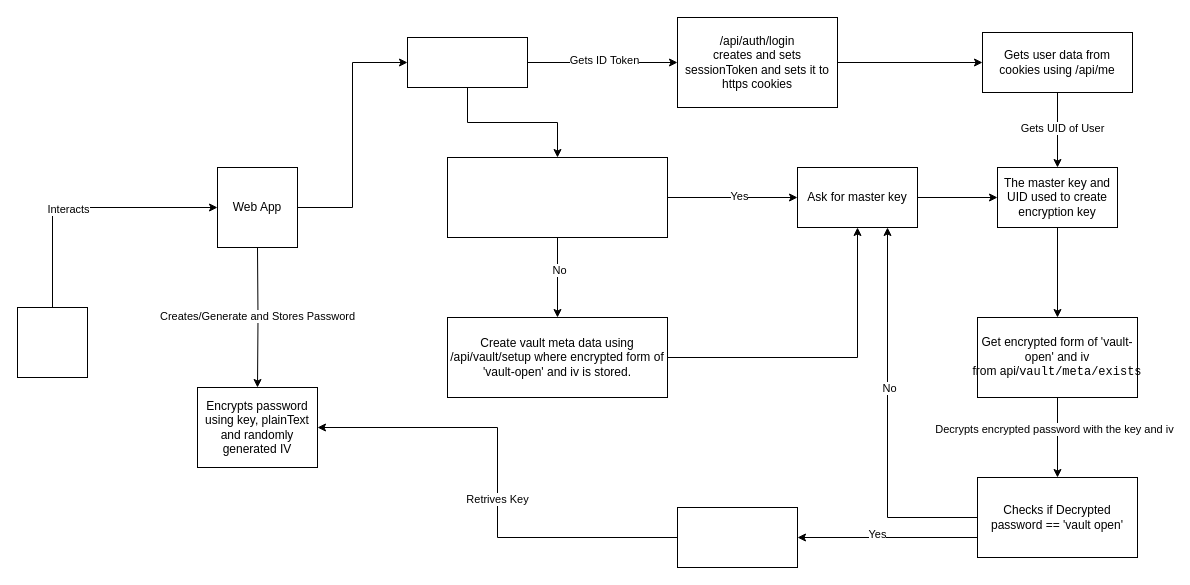
The diagram is 1190 pixels wide and 585 high, and some of its shapes have lost their labels. Each missing label, with the centre of its shape:
"Checks if vault meta data exist using /api/ vault/meta/exists" belongs at point 557,197.
"Key is stored in zustand state manager" belongs at point 737,537.
"Login Using google" belongs at point 467,62.
"User" belongs at point 52,342.
